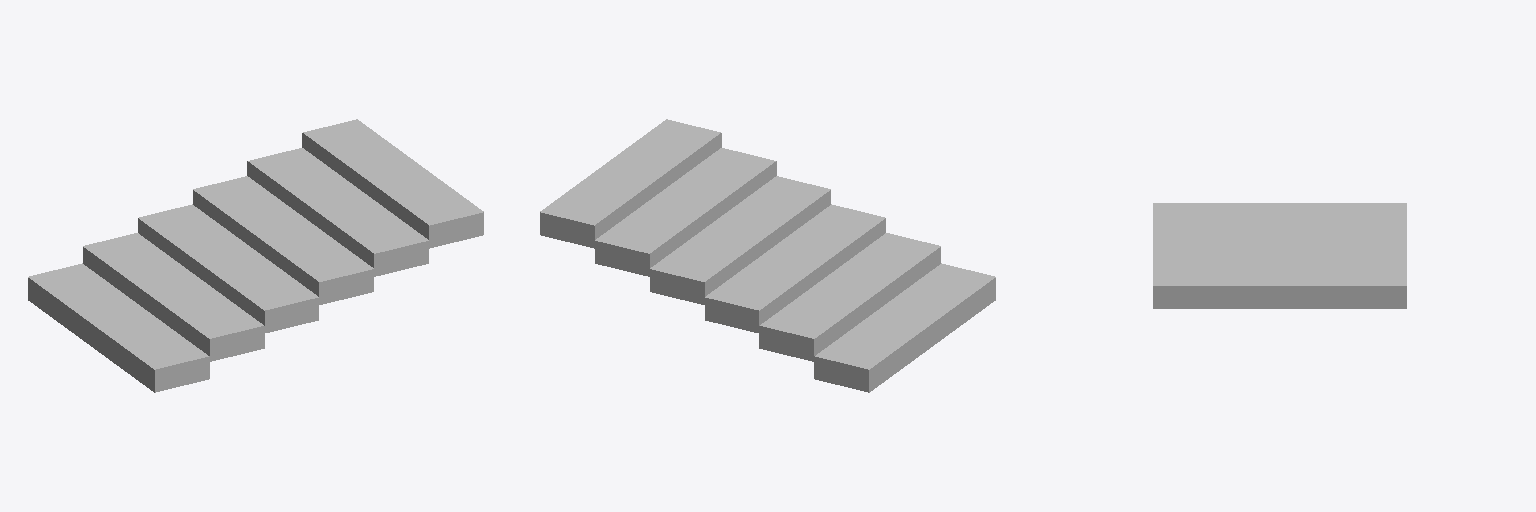
Rendered from stairs.obj.
The picture shows the model from 3 angles: view 1: azimuth 30°, elevation 25°; view 2: azimuth 150°, elevation 25°; view 3: azimuth 270°, elevation 25°; orthographic projection.
Visible parts, largest first — view 1: Stairs.000_Cube.006, Stairs.002_Cube.007, Stairs.001_Cube.001, Stairs.005_Cube.010, Stairs.004_Cube.009, Stairs.003_Cube.008; view 2: Stairs.000_Cube.006, Stairs.002_Cube.007, Stairs.001_Cube.001, Stairs.005_Cube.010, Stairs.004_Cube.009, Stairs.003_Cube.008; view 3: Stairs.001_Cube.001, Stairs.005_Cube.010, Stairs.004_Cube.009, Stairs.003_Cube.008, Stairs.002_Cube.007, Stairs.000_Cube.006.
Boxes of the visible parts, x1=… form: Stairs.000_Cube.006: x1=28, y1=263, x2=209, y2=392; Stairs.002_Cube.007: x1=83, y1=233, x2=264, y2=361; Stairs.001_Cube.001: x1=302, y1=119, x2=483, y2=248; Stairs.005_Cube.010: x1=247, y1=148, x2=428, y2=276; Stairs.004_Cube.009: x1=193, y1=176, x2=373, y2=304; Stairs.003_Cube.008: x1=138, y1=204, x2=318, y2=332; Stairs.000_Cube.006: x1=814, y1=263, x2=995, y2=392; Stairs.002_Cube.007: x1=759, y1=233, x2=940, y2=361; Stairs.001_Cube.001: x1=540, y1=119, x2=721, y2=248; Stairs.005_Cube.010: x1=595, y1=148, x2=776, y2=276; Stairs.004_Cube.009: x1=650, y1=176, x2=830, y2=304; Stairs.003_Cube.008: x1=705, y1=204, x2=885, y2=332; Stairs.001_Cube.001: x1=1153, y1=260, x2=1406, y2=308; Stairs.005_Cube.010: x1=1153, y1=248, x2=1406, y2=259; Stairs.004_Cube.009: x1=1153, y1=236, x2=1406, y2=247; Stairs.003_Cube.008: x1=1153, y1=224, x2=1406, y2=235; Stairs.002_Cube.007: x1=1153, y1=212, x2=1406, y2=223; Stairs.000_Cube.006: x1=1153, y1=203, x2=1406, y2=211.
Bounding box in the file's own units: 6 × 1.74 × 4.